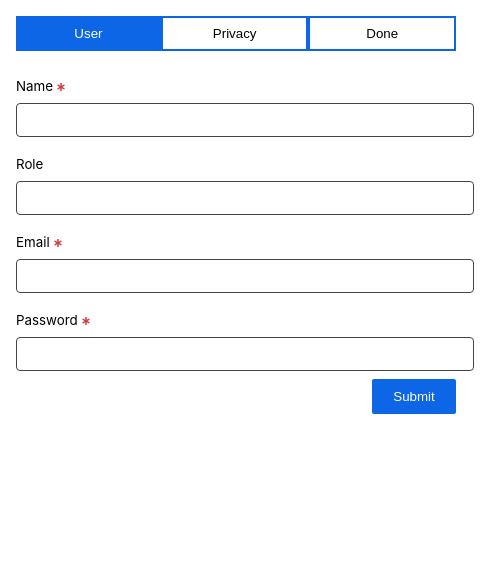
Test: should render app and successfully submitting the form
# Name input
Step 1. Type "Tom" into the field labelled "Name" → (245, 120), box top-left (16, 103), bottom-right (474, 137)
# Email input (skipping role as not required)
Step 2. Type "tompom@gmail.com" into the field labelled "Email" → (245, 276), box top-left (16, 259), bottom-right (474, 293)
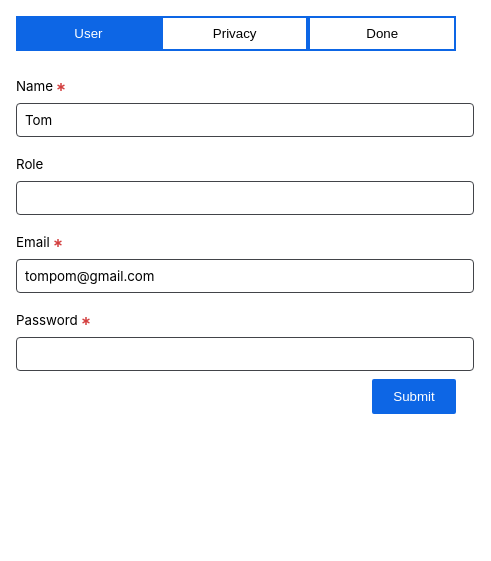
# Password input
Step 3. Type "1Passwordpassword" into the field labelled "Password" → (245, 354), box top-left (16, 337), bottom-right (474, 371)
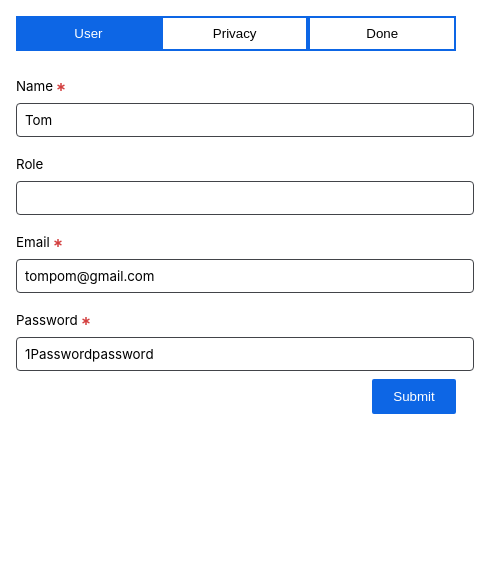
# Submitting form
Step 4. Click the button named "Submit" → (414, 396), box top-left (372, 379), bottom-right (456, 414)
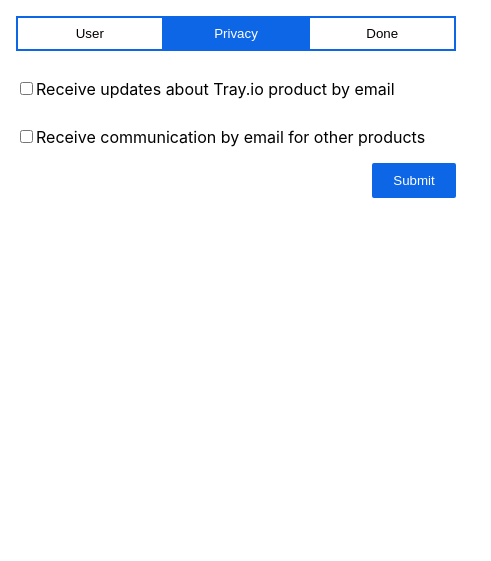
Step 5. Click the checkbox labelled "Receive updates about Tray.io product by email" → (26, 88), box top-left (20, 82), bottom-right (33, 95)
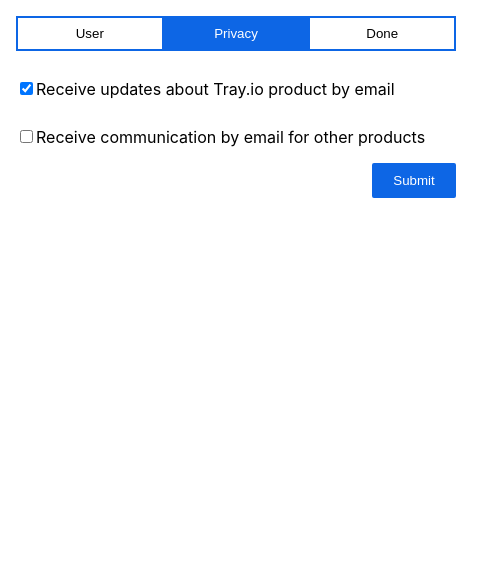
Expected: the checkbox labelled "Receive updates about Tray.io product by email" is checked, top-left (20, 82), bottom-right (33, 95)
Step 6. Click the checkbox labelled "Receive communication by email for other products" → (26, 136), box top-left (20, 130), bottom-right (33, 143)
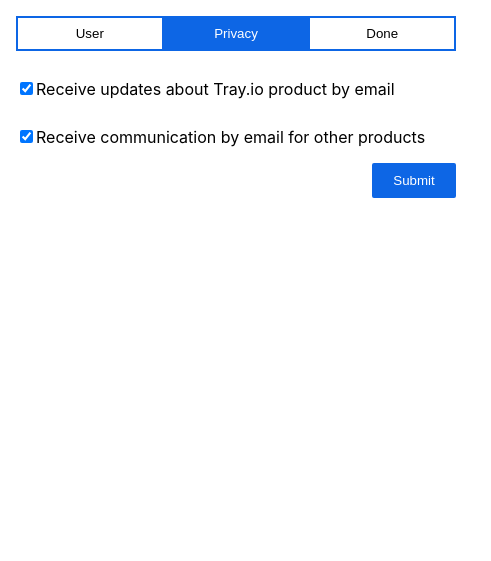
Expected: the checkbox labelled "Receive communication by email for other products" is checked, top-left (20, 130), bottom-right (33, 143)
# Submitting privacy
Step 7. Click the button named "Submit" → (414, 180), box top-left (372, 163), bottom-right (456, 198)
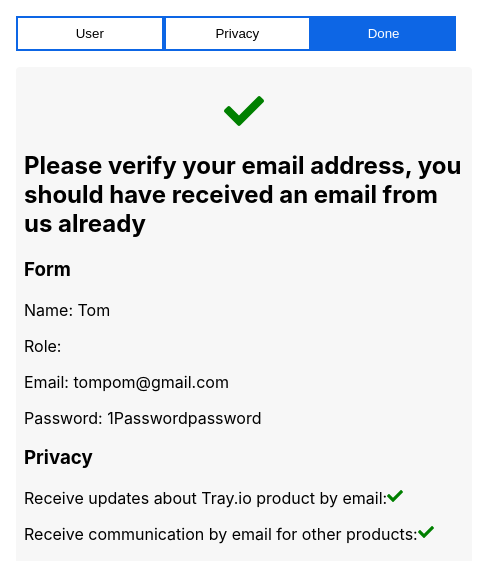
Expected: the heading named "Please verify your email address, you should have received an email from us already" is shown, top-left (24, 151), bottom-right (464, 238)
